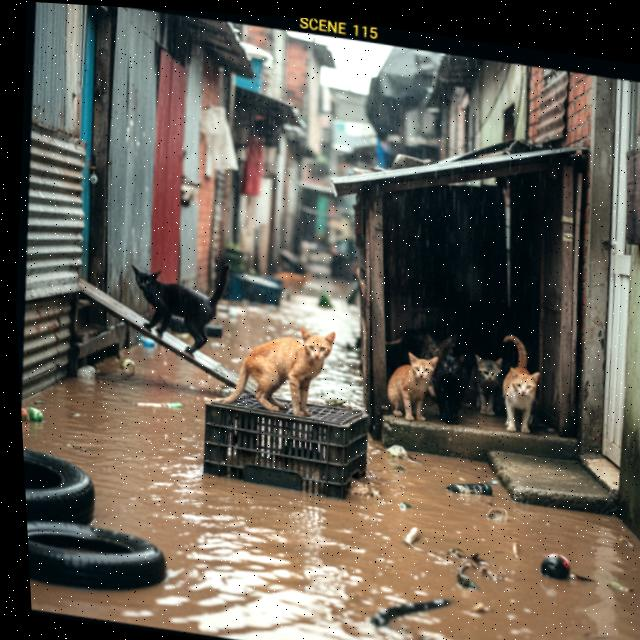cat: (196, 310, 342, 425), (120, 246, 241, 367), (492, 330, 548, 438), (379, 343, 444, 427), (430, 349, 474, 426), (468, 353, 508, 420)
